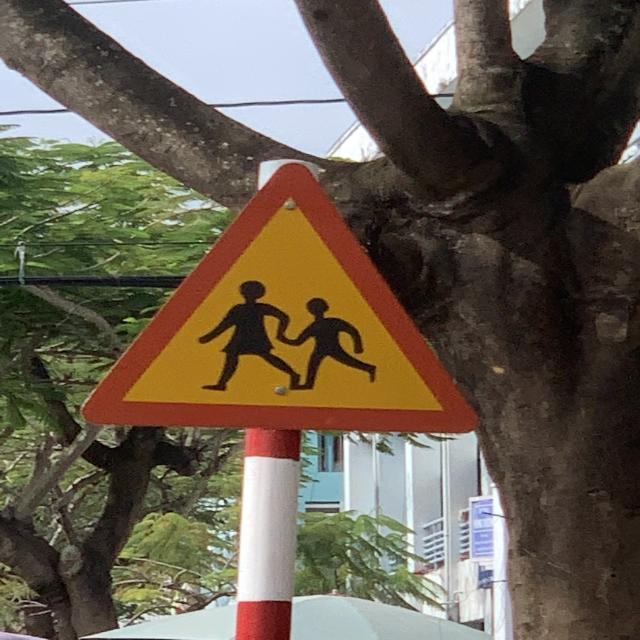Vong_Xuyen: (78, 165, 480, 433)
